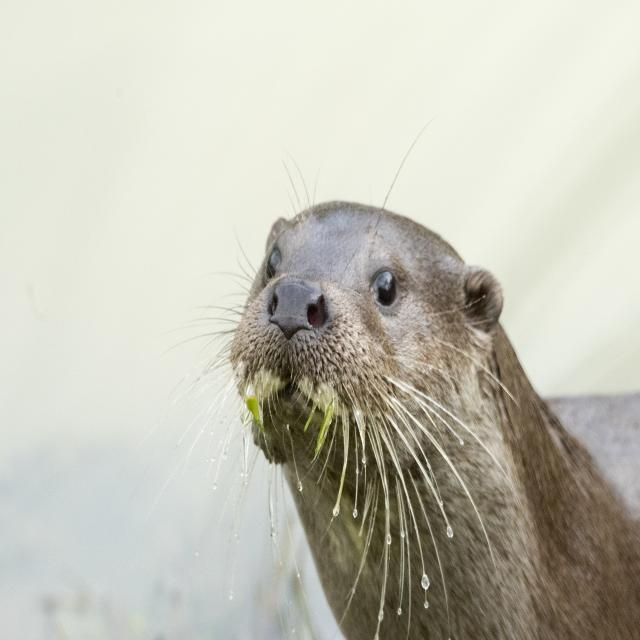otter: (234, 203, 640, 640)
